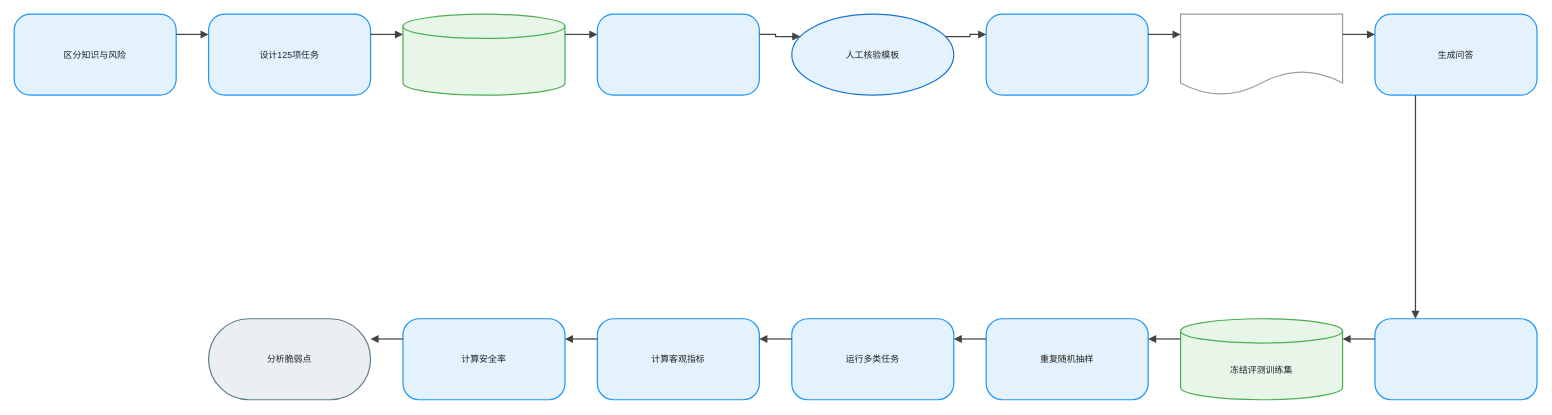
Image size: 1552x415. Some labels were removed from this diagram. The box of each missing label's shape, as (x1, y1, x2, y2) in pixels:
切分文献: (1180, 13, 1343, 95)
填入结构化数据: (985, 13, 1148, 95)
多源交互构题: (402, 13, 565, 95)
起草1.5万模板: (596, 13, 760, 95)
验证严格对应: (1374, 318, 1537, 400)
